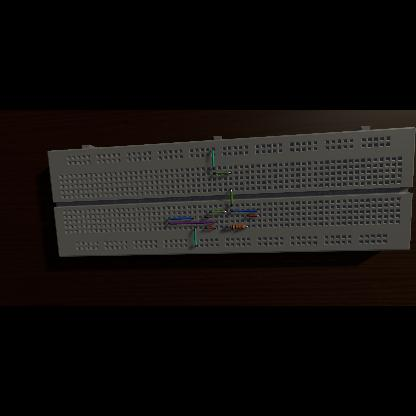breadboard: (48, 127, 416, 258)
resistor: (230, 226, 244, 230)
wire: (168, 221, 216, 224), (230, 209, 260, 212), (168, 218, 196, 221), (214, 172, 230, 176), (210, 210, 226, 214), (230, 190, 233, 206), (212, 148, 214, 170), (206, 226, 216, 230), (194, 228, 196, 246), (247, 215, 259, 217), (205, 216, 211, 218), (245, 226, 249, 228), (226, 226, 230, 228)
